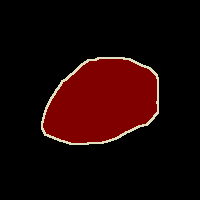hat: (42, 58, 158, 144)
